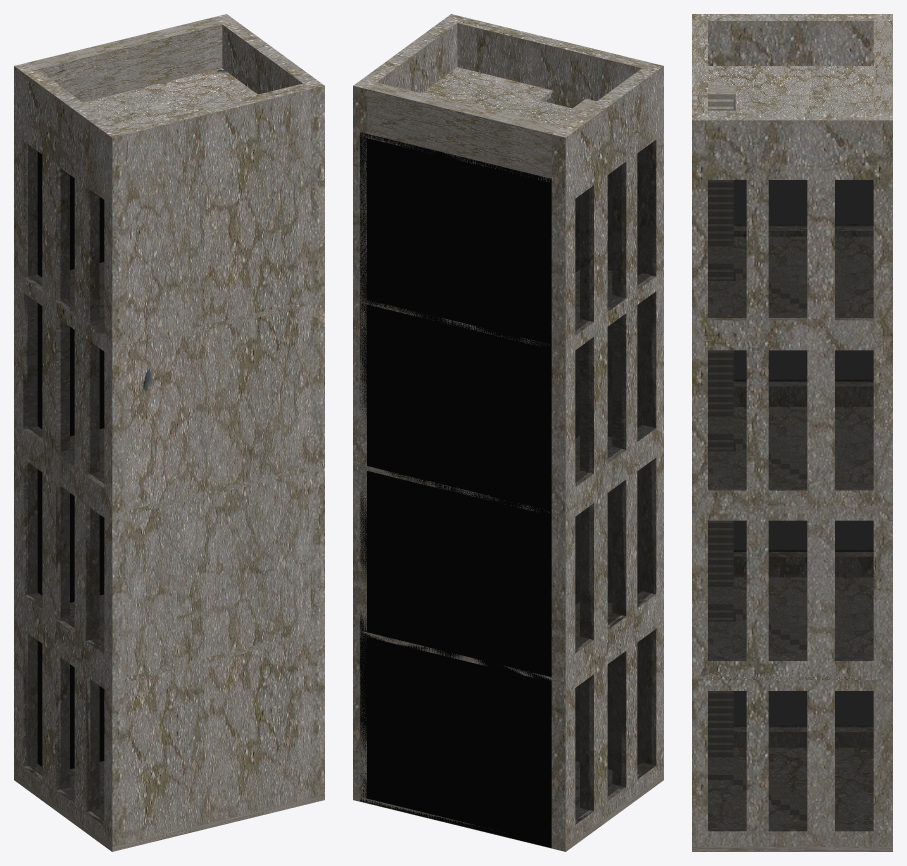
Rendered from square building.fbx.
3 renders of one model, left to right at view 1: azimuth 30°, elevation 25°; view 2: azimuth 150°, elevation 25°; view 3: azimuth 270°, elevation 25°, orthographic. The views are drawn at different scales.
Visible parts, largest first — view 1: box building, box glass, tempple glass; view 2: tempple glass, box building, box glass; view 3: box building, box glass.
Boxes of the visible parts, left/top/right/bottom form: box building: left=14, top=14, right=324, bottom=851; box glass: left=23, top=141, right=104, bottom=825; tempple glass: left=38, top=152, right=103, bottom=768; tempple glass: left=360, top=132, right=551, bottom=847; box building: left=353, top=14, right=663, bottom=851; box glass: left=575, top=140, right=656, bottom=824; box building: left=692, top=14, right=892, bottom=851; box glass: left=708, top=99, right=873, bottom=831.
Size of the model in its own units: 45.51 by 36.35 by 146.
Materials: 3 (1 with a texture image).
